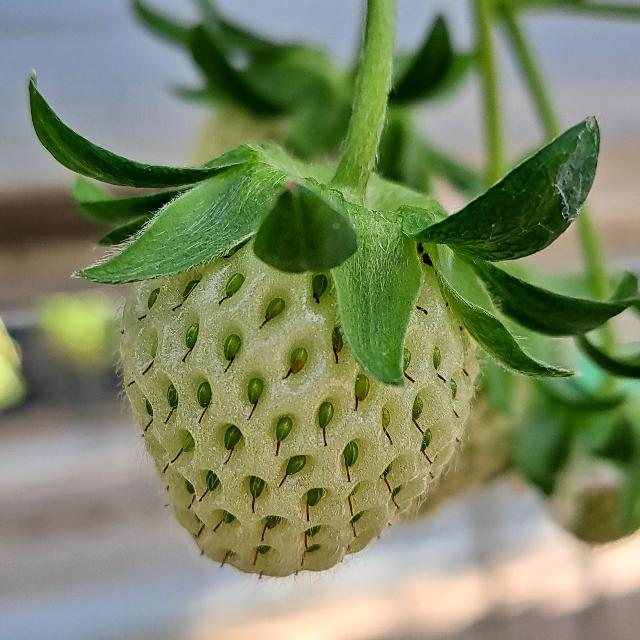Health_25: (120, 232, 478, 576)
